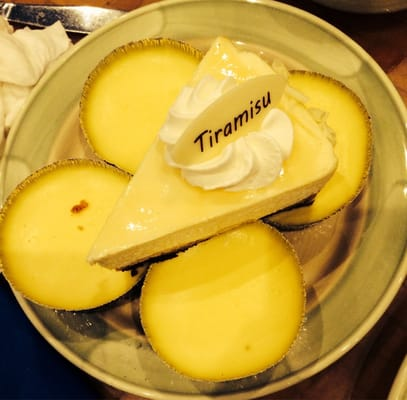pasta: (28, 16, 407, 392), (85, 23, 348, 272), (138, 220, 306, 382)
sushi: (16, 1, 406, 354)
